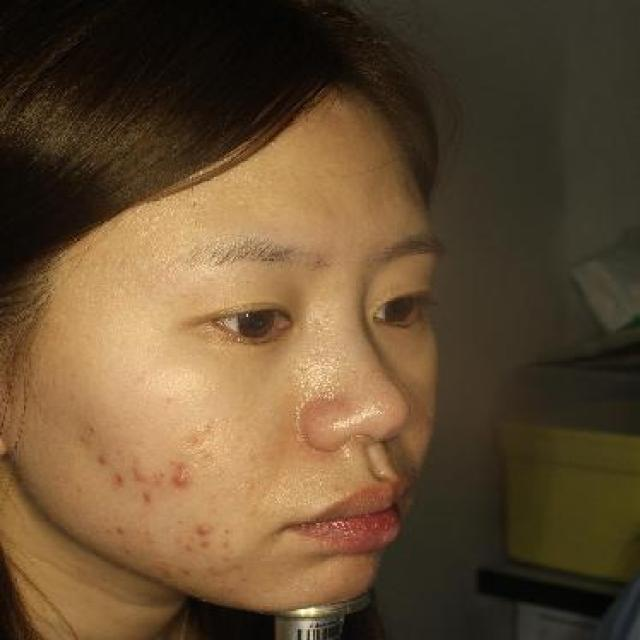dark spot: (103, 470, 135, 496), (84, 443, 111, 472), (135, 485, 159, 512)
papules: (166, 465, 193, 489), (192, 520, 216, 535)
